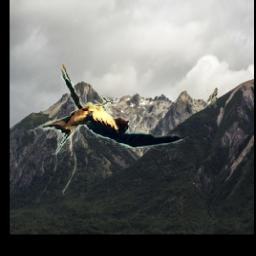Sparrow: (203, 89, 218, 109)
Swallow: (15, 65, 185, 156)
